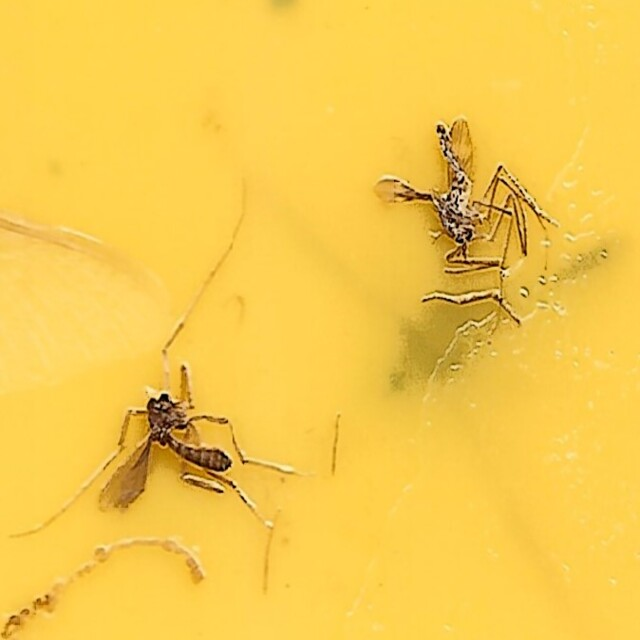Nematocera: (95, 361, 266, 524), (378, 116, 545, 262)
